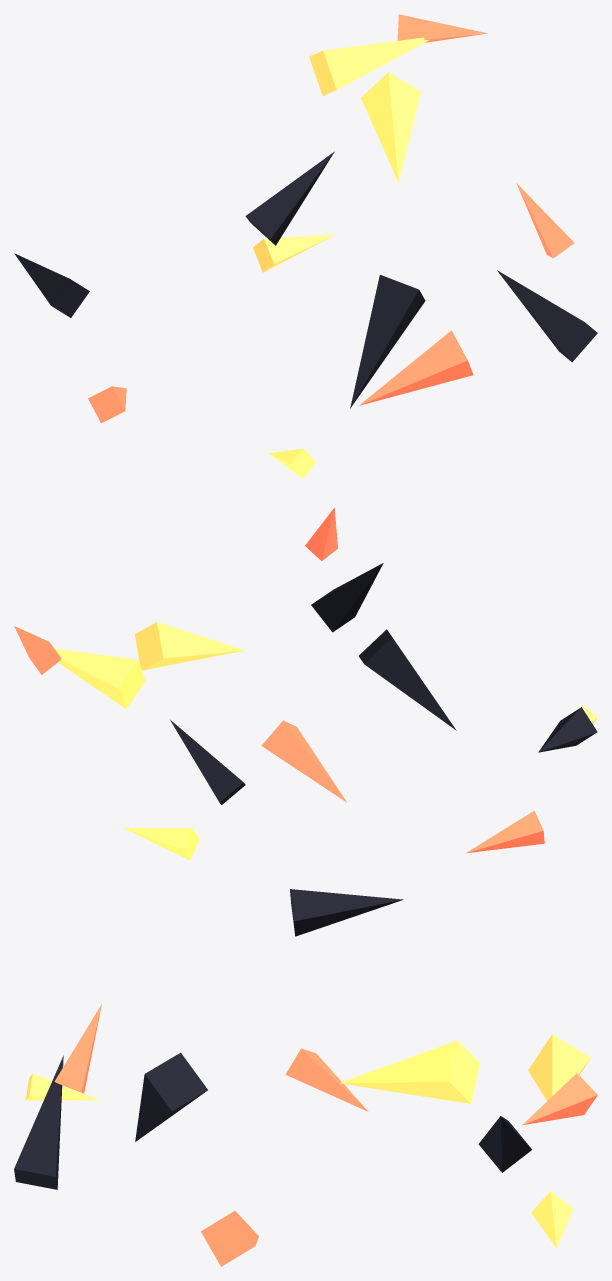
File: fx_pahon_shards_a.glb
3 renders of one model, top to bottom at view 1: azimuth 30°, elevation 25°; view 2: azimuth 150°, elevation 25°; view 3: azimuth 270°, elevation 25°, orthographic. The views are drawn at different scales.
Visible parts, largest first — view 1: fx_pahon_shards_a; view 2: fx_pahon_shards_a; view 3: fx_pahon_shards_a.
Boxes of the visible parts, bbox=[...] form: fx_pahon_shards_a: bbox=[14, 14, 597, 478]; fx_pahon_shards_a: bbox=[14, 507, 597, 860]; fx_pahon_shards_a: bbox=[14, 889, 597, 1266].
Size of the model in its own units: 2.56 by 1.15 by 2.18.
